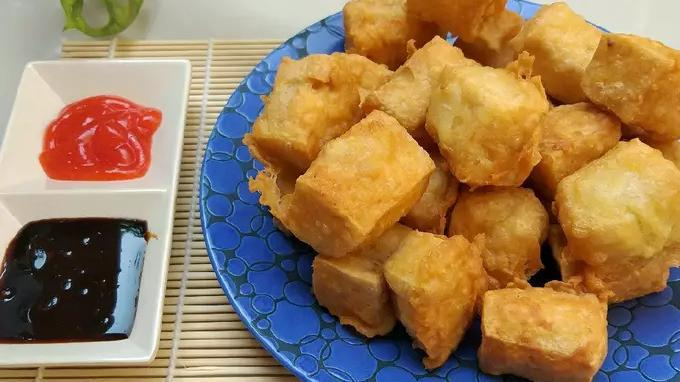Tahu: (540, 154, 660, 298), (458, 283, 619, 364), (431, 69, 545, 180), (301, 117, 421, 208), (244, 55, 337, 172), (583, 39, 680, 140)
